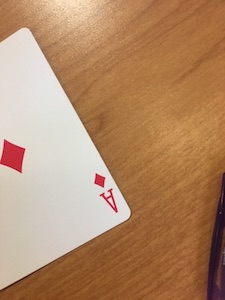AceOfDiamonds: (1, 22, 132, 289)
